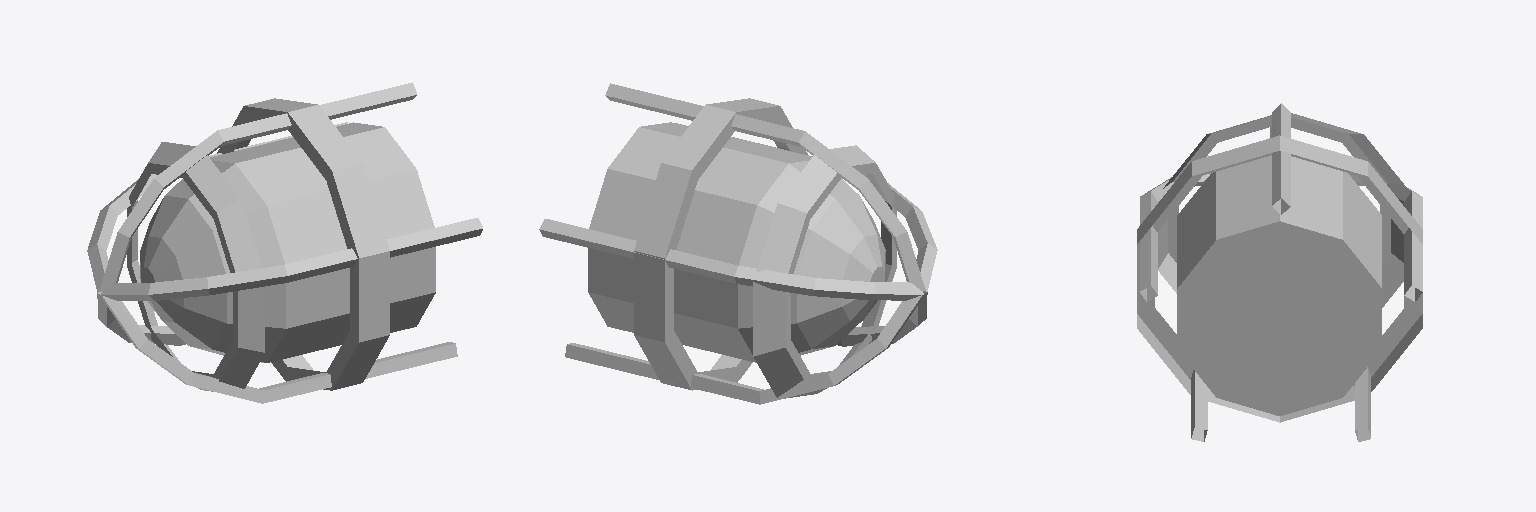
Rendered from red_light.obj.
3 renders of one model, left to right at view 1: azimuth 30°, elevation 25°; view 2: azimuth 150°, elevation 25°; view 3: azimuth 270°, elevation 25°, orthographic.
Visible parts, largest first — view 1: Cylinder.011; view 2: Cylinder.011; view 3: Cylinder.011.
Boxes of the visible parts, x1,y1,x2,y2 form: Cylinder.011: [87, 82, 482, 403]; Cylinder.011: [539, 83, 937, 404]; Cylinder.011: [1137, 103, 1422, 441].
Bounding box in the file's own units: 0.3799 × 0.3139 × 0.2988.